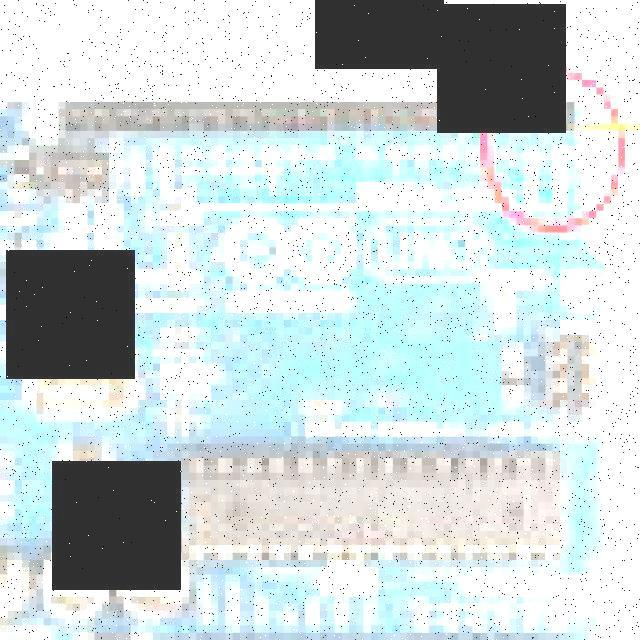arduino: (0, 96, 599, 640)
